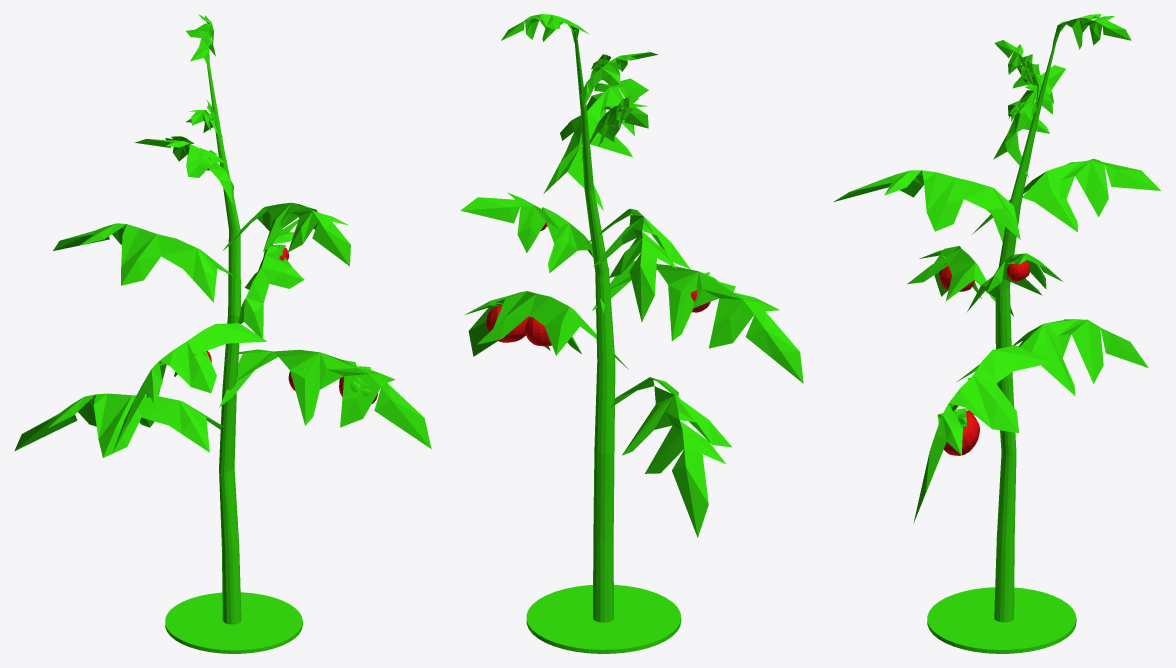
Rendered from tomato_plant_240cm.dae.
3 views of the same model, side by side, from view 1: azimuth 30°, elevation 25°; view 2: azimuth 150°, elevation 25°; view 3: azimuth 270°, elevation 25° (orthographic). The views are drawn at different scales.
Visible parts, largest first — view 1: tomato-plant; view 2: tomato-plant; view 3: tomato-plant.
Part boxes in pixels (x1=…): tomato-plant: x1=14, y1=14, x2=431, y2=653; tomato-plant: x1=461, y1=14, x2=803, y2=653; tomato-plant: x1=833, y1=14, x2=1160, y2=653.
Bounding box in the file's own units: 1.25 × 1.06 × 2.18.
